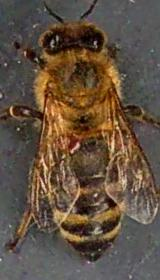varroa_mite: (58, 135, 84, 157)
